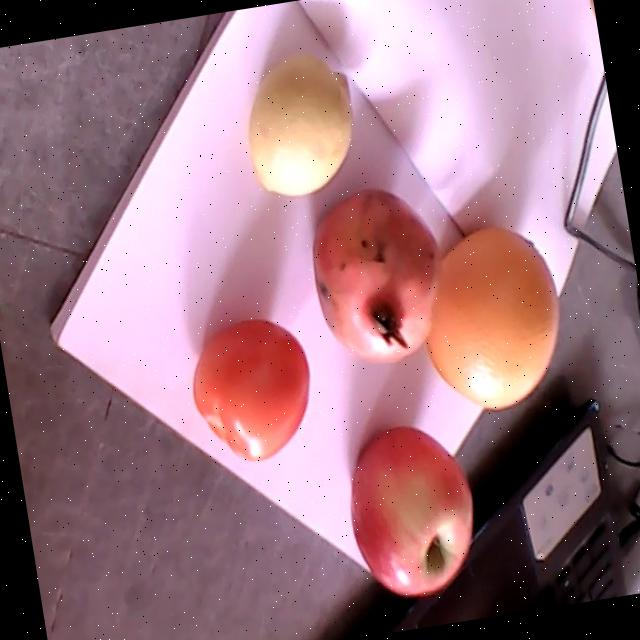apple: (349, 425, 472, 595)
lemon: (248, 50, 351, 198)
orange: (428, 226, 560, 408)
pomegranate: (310, 185, 443, 363)
tomato: (190, 318, 309, 461)
